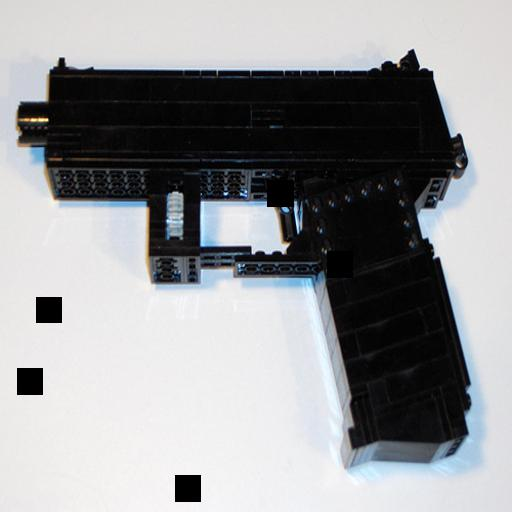Handgun: (15, 46, 471, 468)
